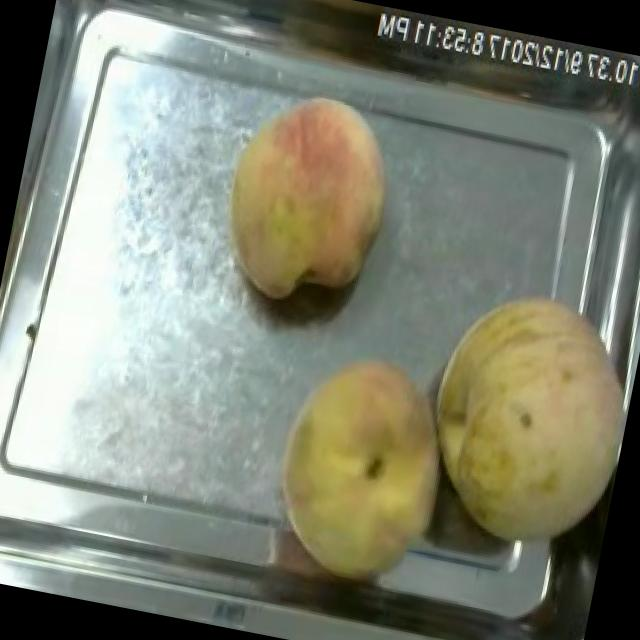Fruit: (396, 266, 640, 573), (248, 330, 486, 603), (199, 72, 415, 326)
